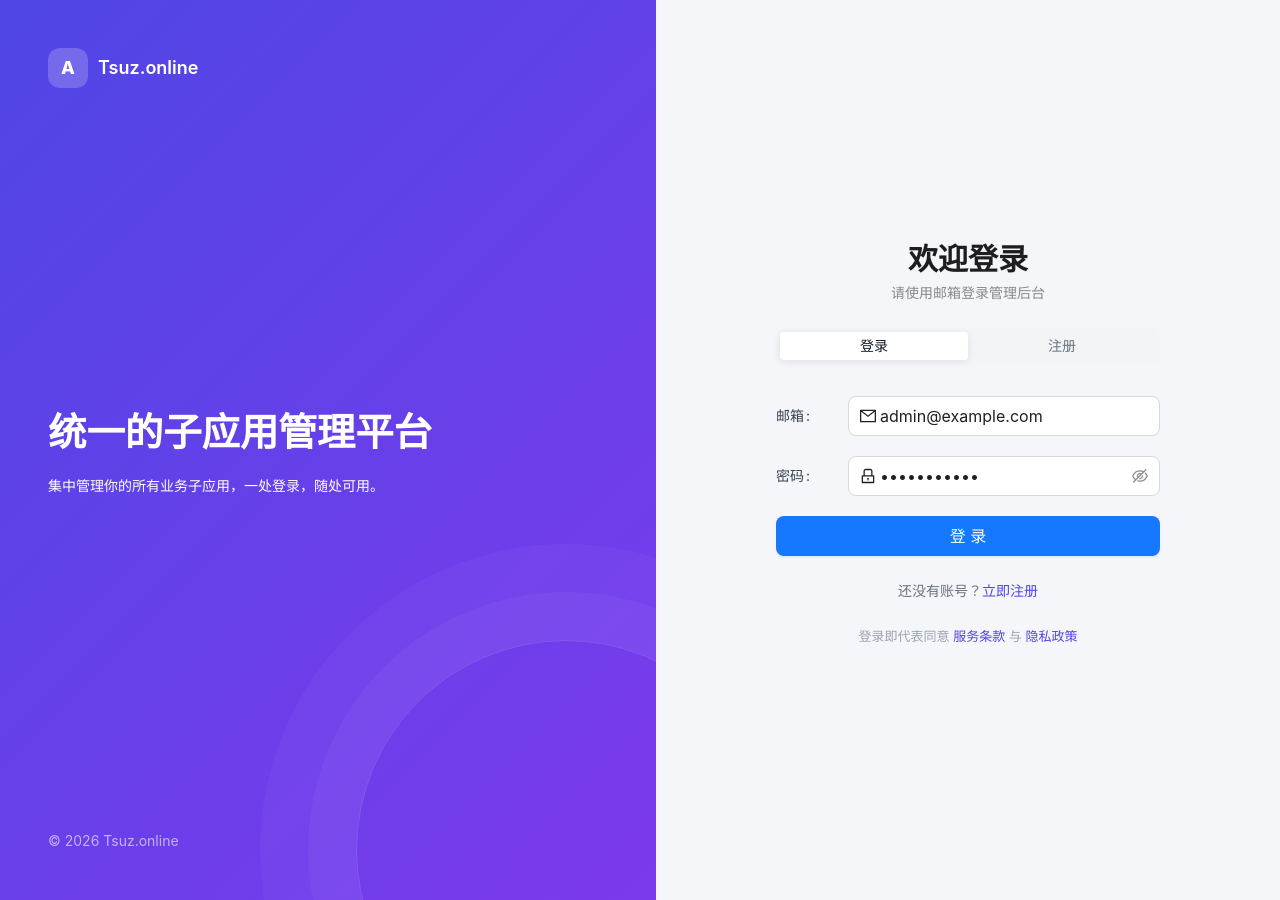
LoginPage › does not send a code for an invalid email
Click the text "注册". click: (1062, 346)
box: x1=1048 y1=337 x2=1076 y2=354
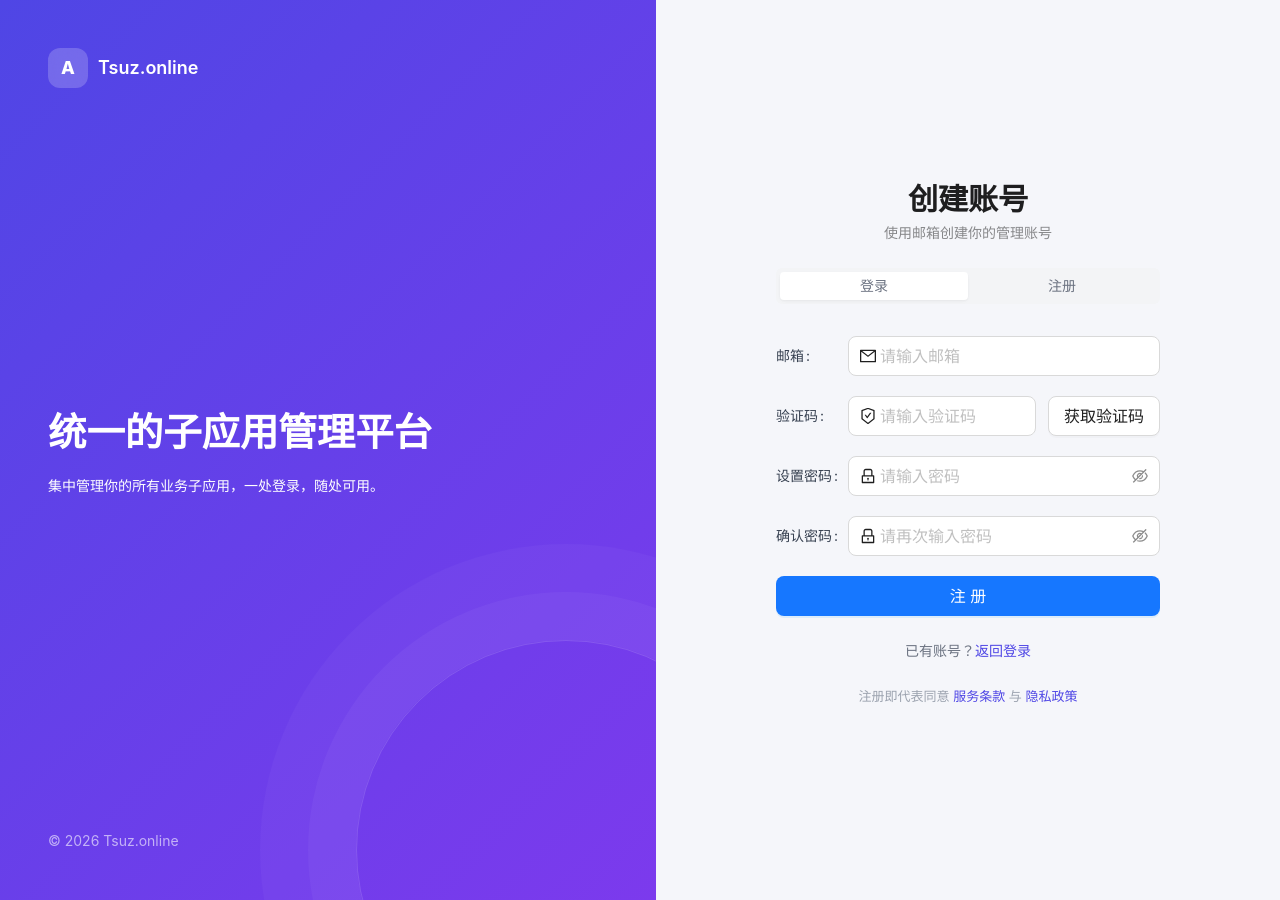
Type "not-an-email" into the field labelled "邮箱". click: (1014, 356)
box: x1=880 y1=344 x2=1148 y2=368
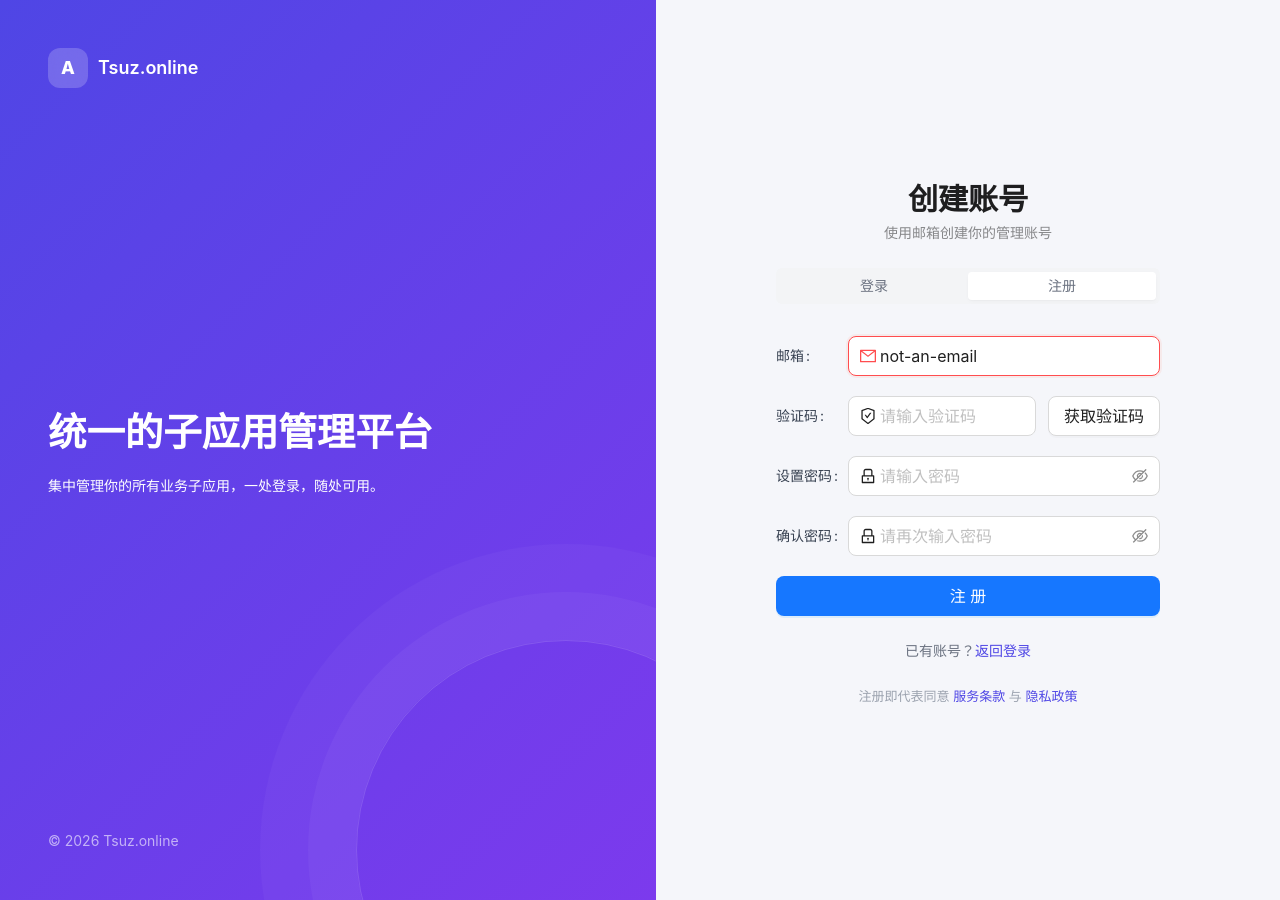
Click the button "获取验证码". click: (1104, 416)
box: x1=1048 y1=396 x2=1160 y2=436
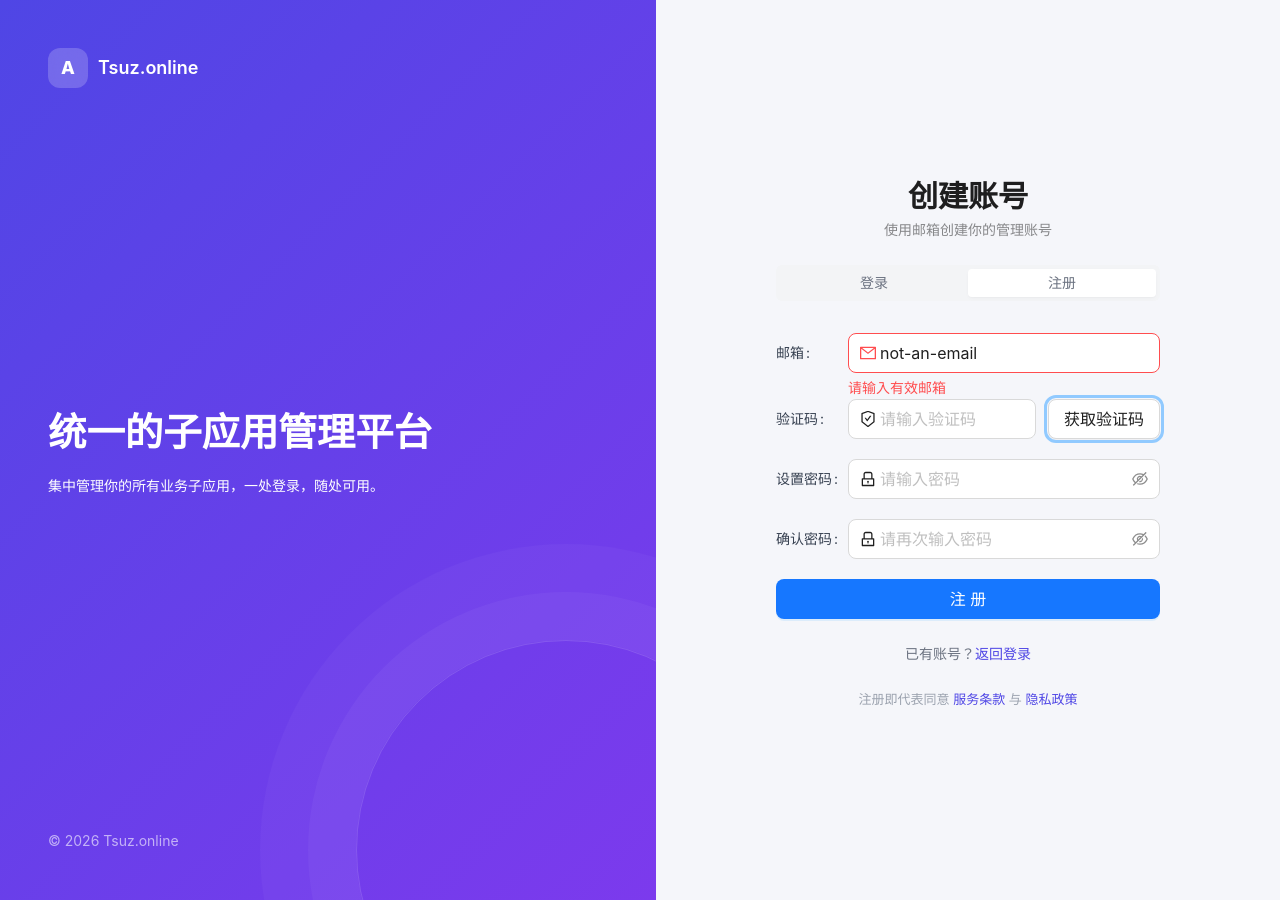
Expected: the text "请输入有效邮箱" is shown, x1=848 y1=379 x2=946 y2=396
